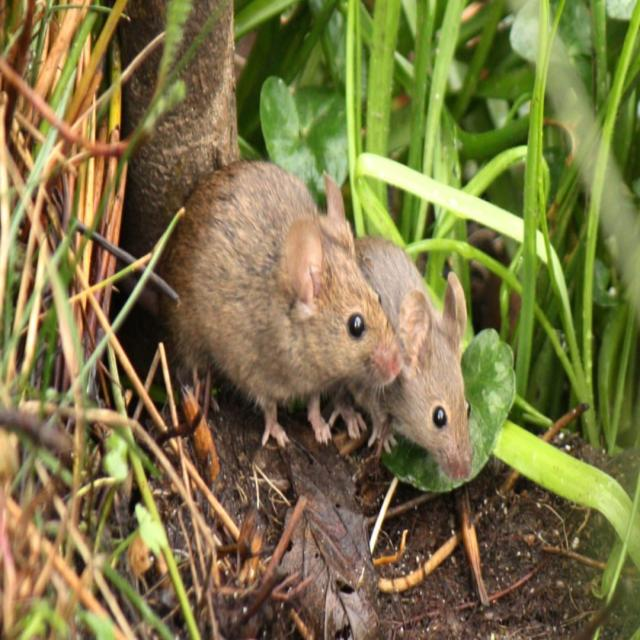Mouse: (162, 146, 403, 421), (396, 267, 482, 481)
